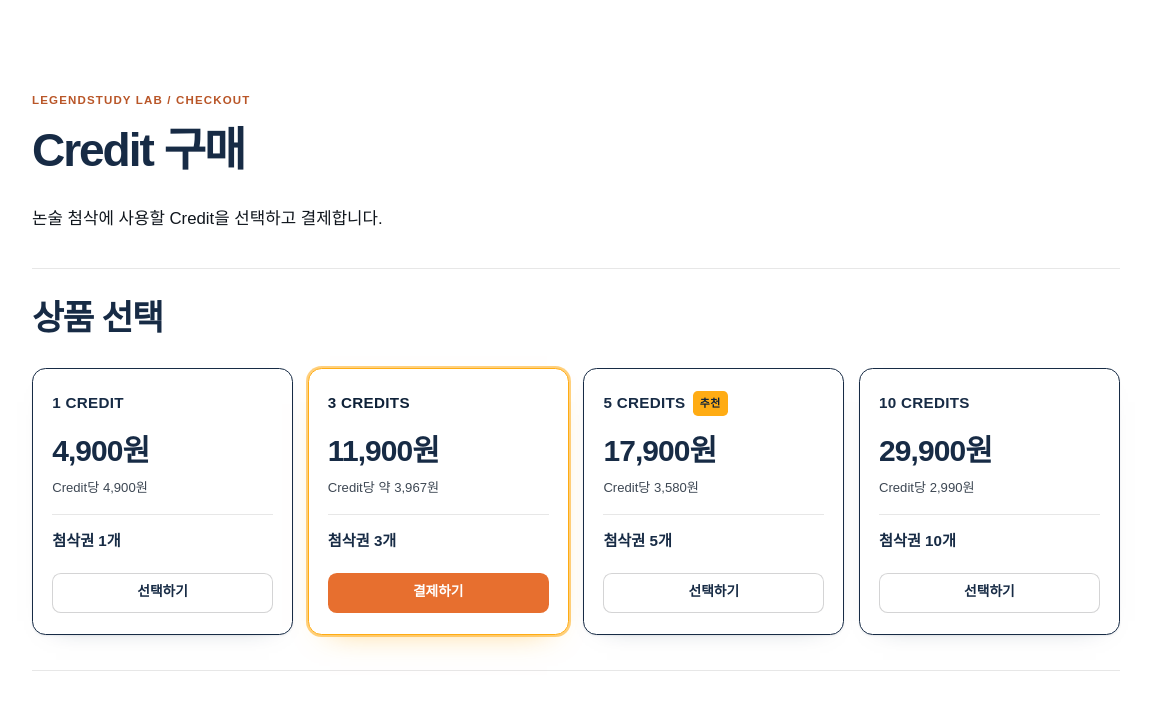
does not loop or open Toss when the replacement is also rejected
This screenshot has width=1152, height=702.
Click the button "결제하기".
click(438, 593)  # box [328,573,549,613]
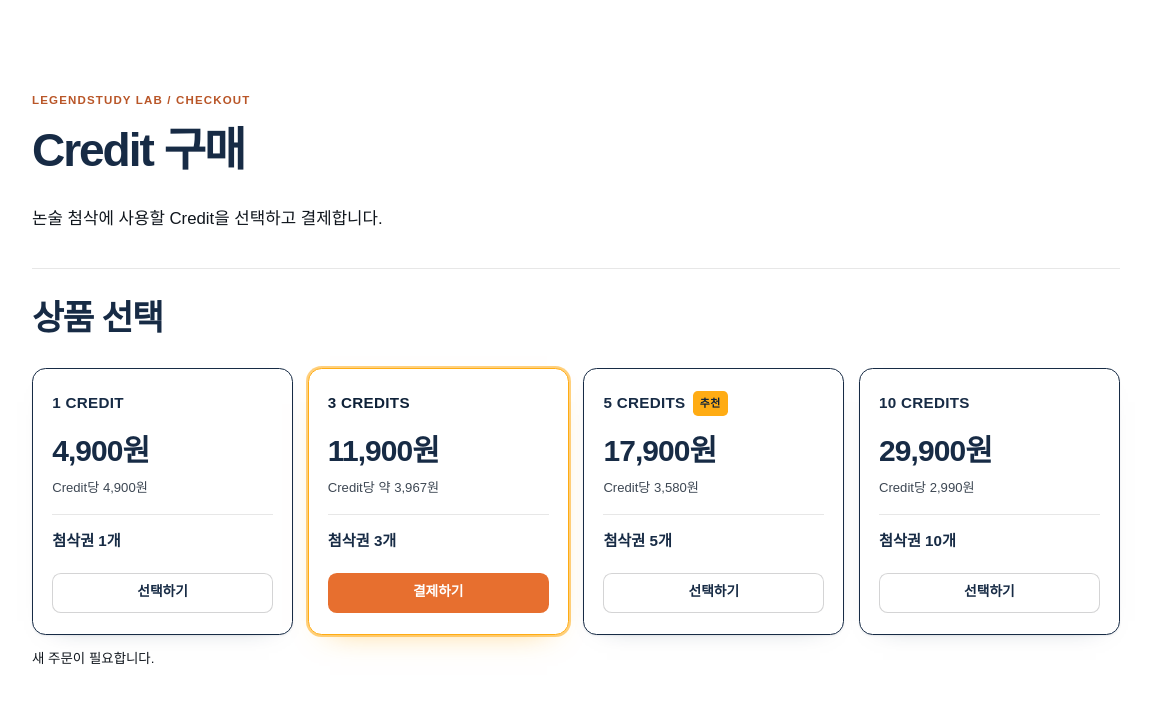
Expected: the text "새 주문이 필요합니다." is shown, [32,651,154,666]
